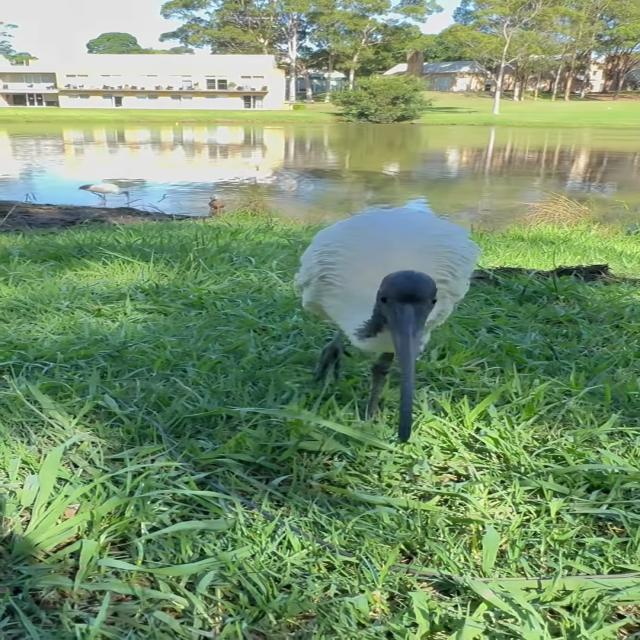Birds-Ibis: (295, 206, 482, 441), (76, 180, 134, 208)
Birds-Other: (204, 192, 232, 212)
